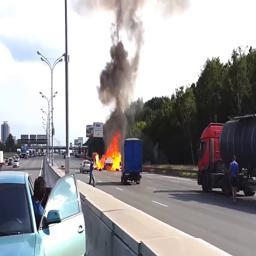fire: (95, 130, 122, 171)
